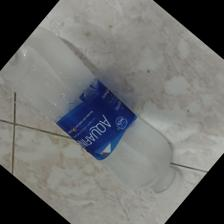Aquafina: (2, 27, 185, 201)
